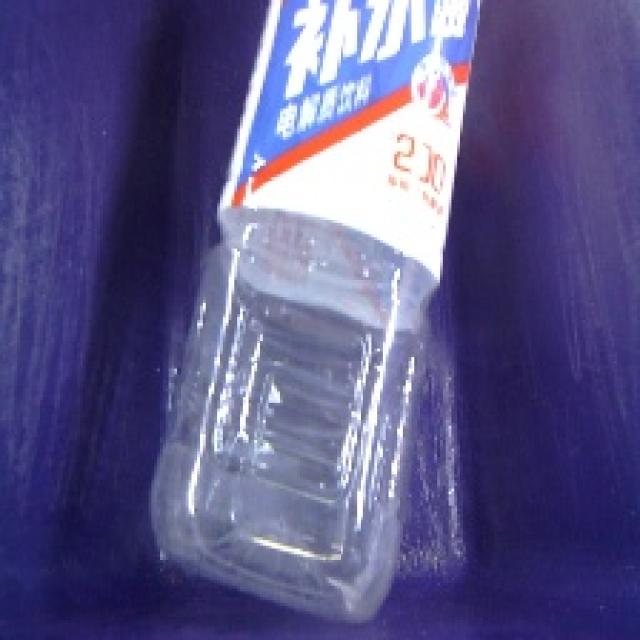plastic: (128, 0, 507, 640)
